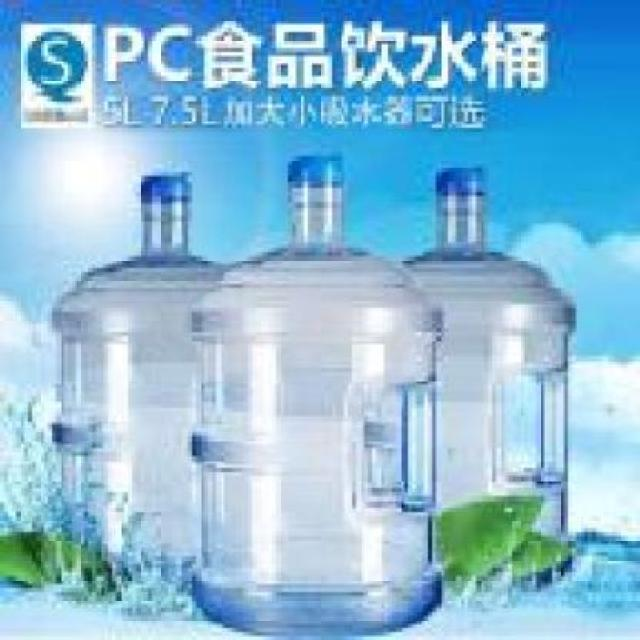coolerbottle: (182, 151, 450, 639)
